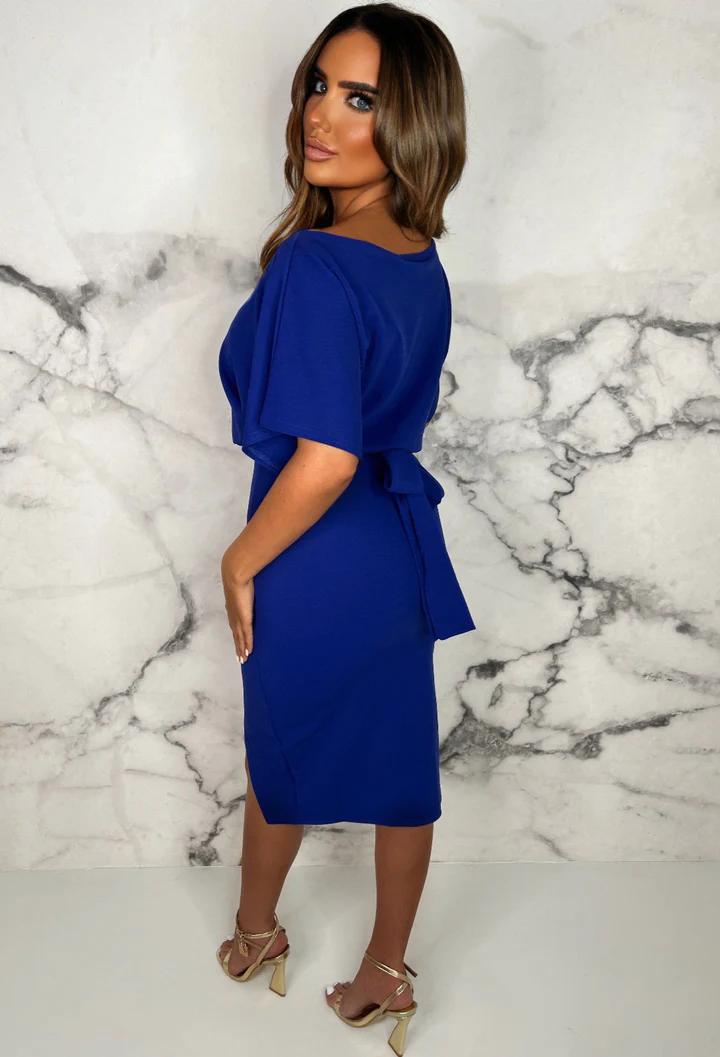dress: (217, 219, 482, 832)
